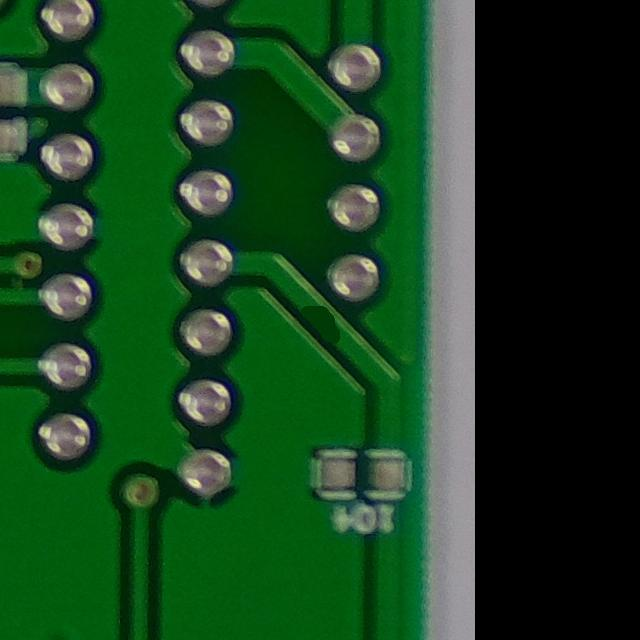mouse_bite: (287, 288, 354, 352)
